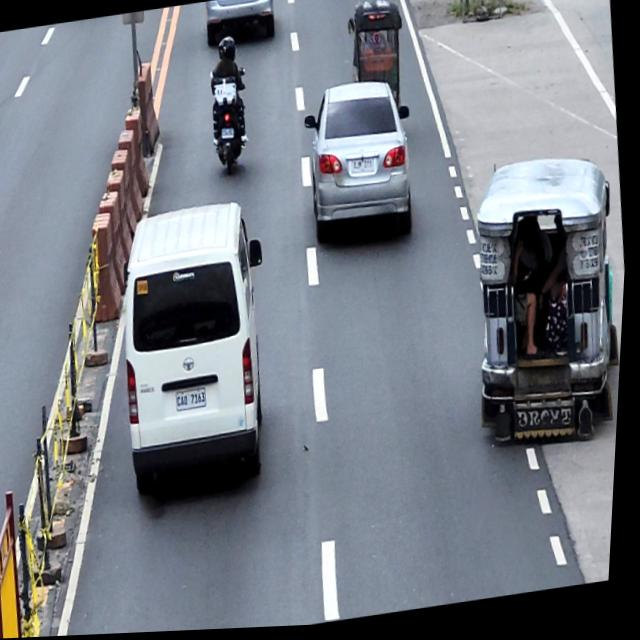Car: (108, 195, 292, 506), (296, 77, 425, 252), (203, 0, 278, 51)
E-bike: (341, 0, 413, 124)
Jeep: (460, 150, 633, 458)
License-Plate: (531, 368, 569, 395), (178, 390, 212, 413), (351, 158, 377, 178), (221, 128, 236, 142)
Motorcycle: (205, 65, 257, 175)
